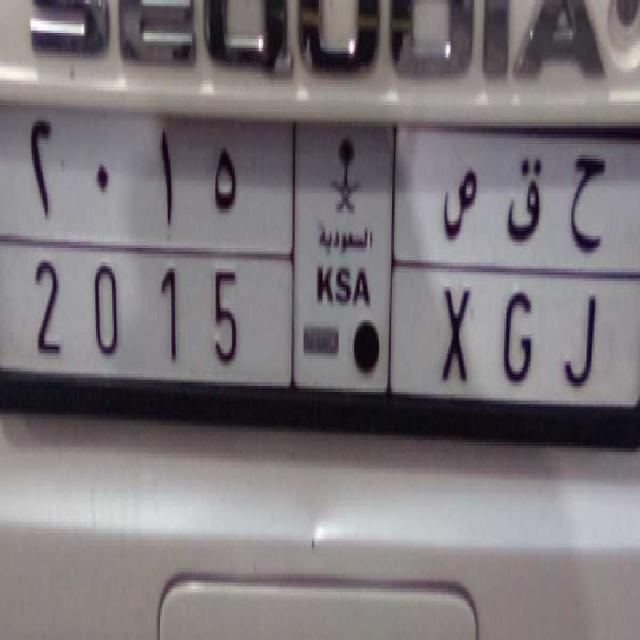license_plate: (30, 238, 622, 399)
